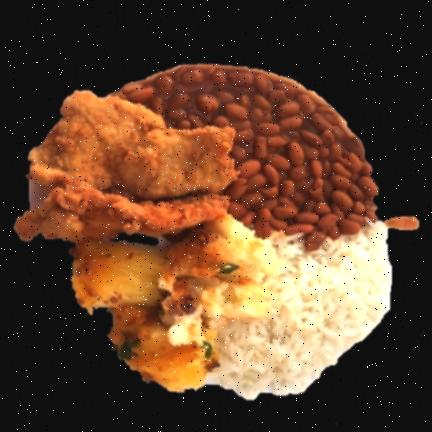cassava: (71, 239, 219, 391)
fish: (14, 91, 237, 241)
rice: (212, 219, 391, 399)
salad: (117, 65, 377, 238)
